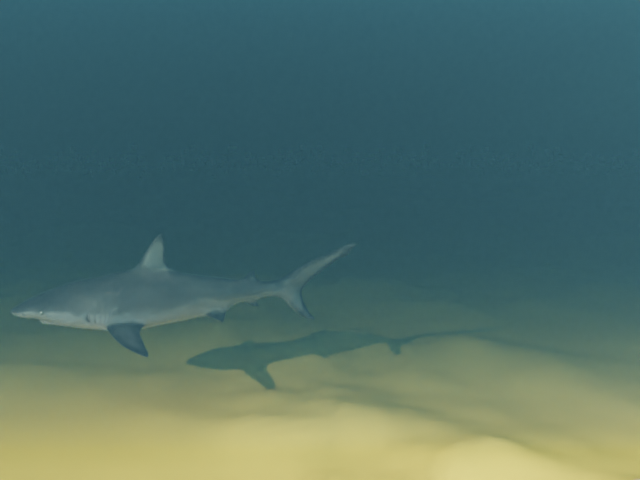Carribean Shark.001: (10, 233, 356, 357)
